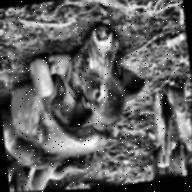boar: (0, 17, 153, 176)
